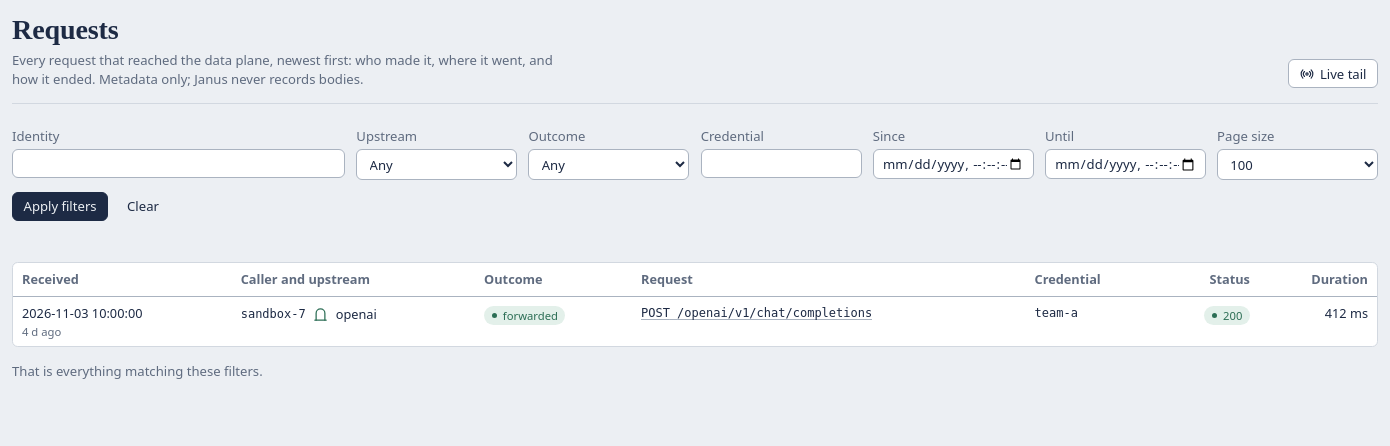
Test case: Requests view › tails live over fetch with the token in the header, and stops when switched off
Expected: the table named "Request log" is shown, [13, 263, 1377, 346]
Select "openai" in the dropdown labelled "Upstream" at [437, 165], box [356, 149, 517, 180]
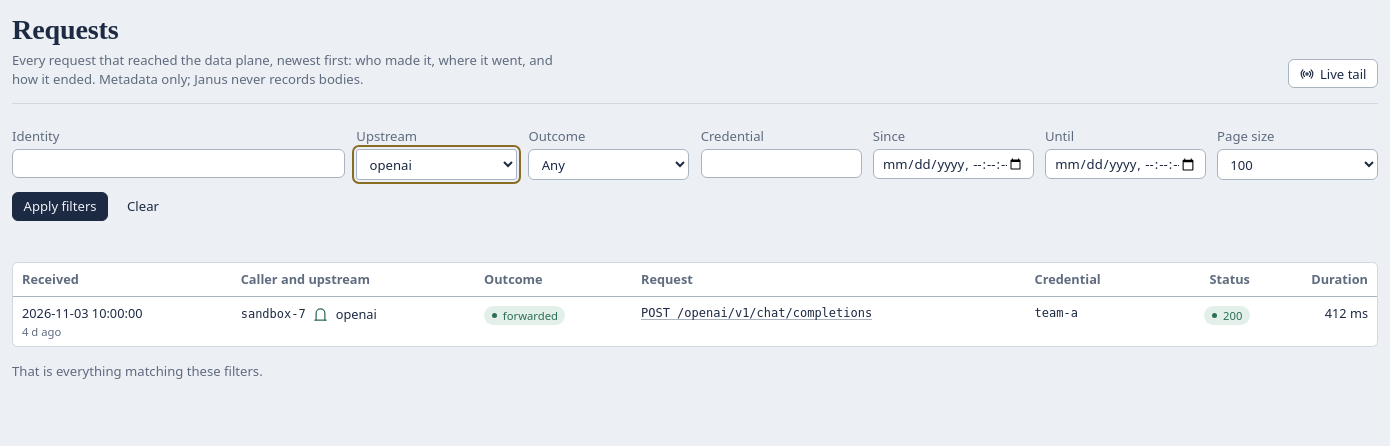
Click the button "Apply filters" at [60, 206], box [12, 192, 108, 221]
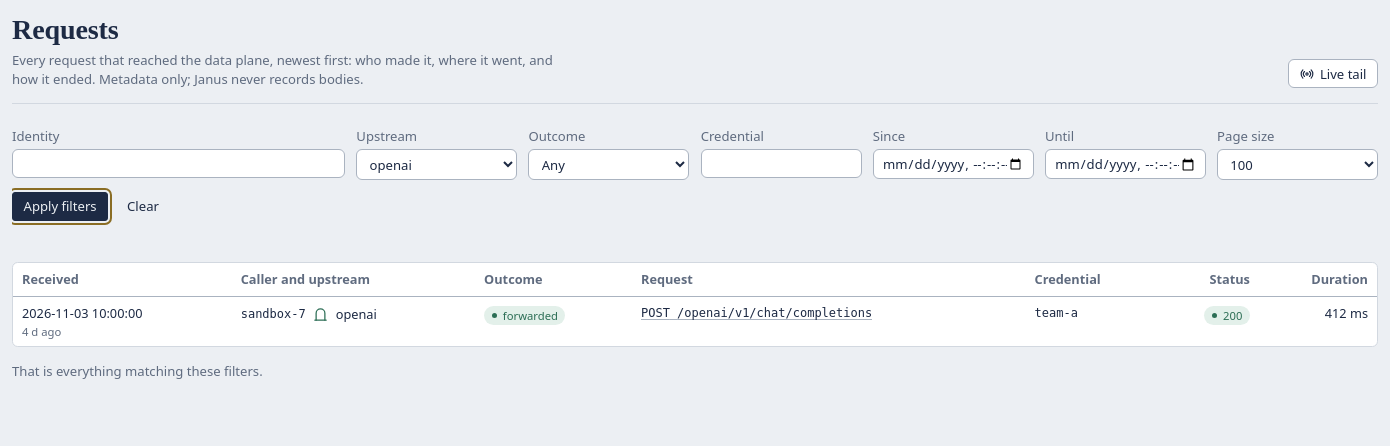
Click the button "Live tail" at [1333, 74], box [1288, 59, 1378, 88]
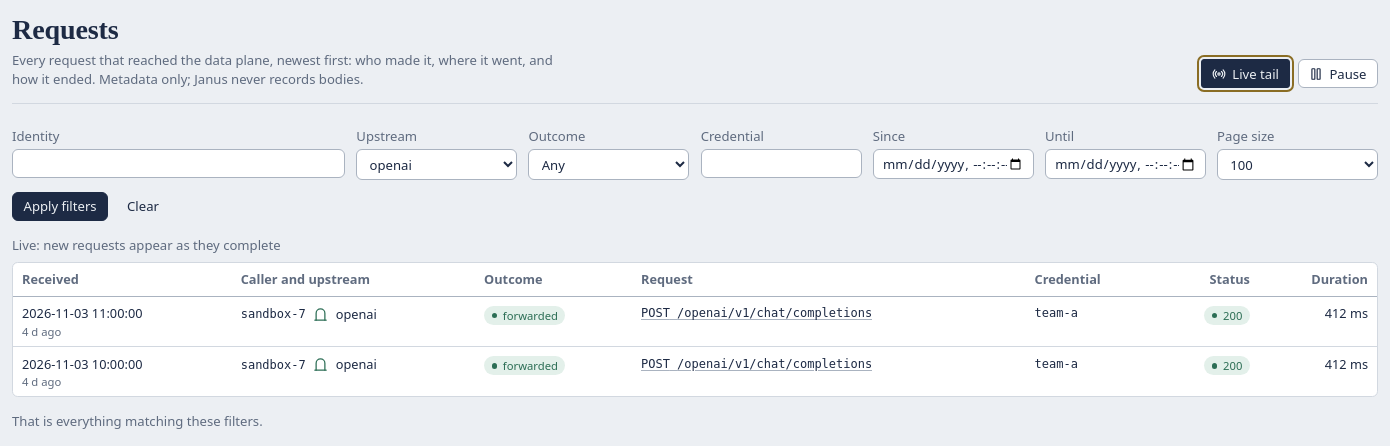
Result: the text "Live: new requests appear as they complete" is shown at [12, 236, 281, 254]
Click the button "Live tail" at [1246, 74], box [1201, 59, 1290, 88]
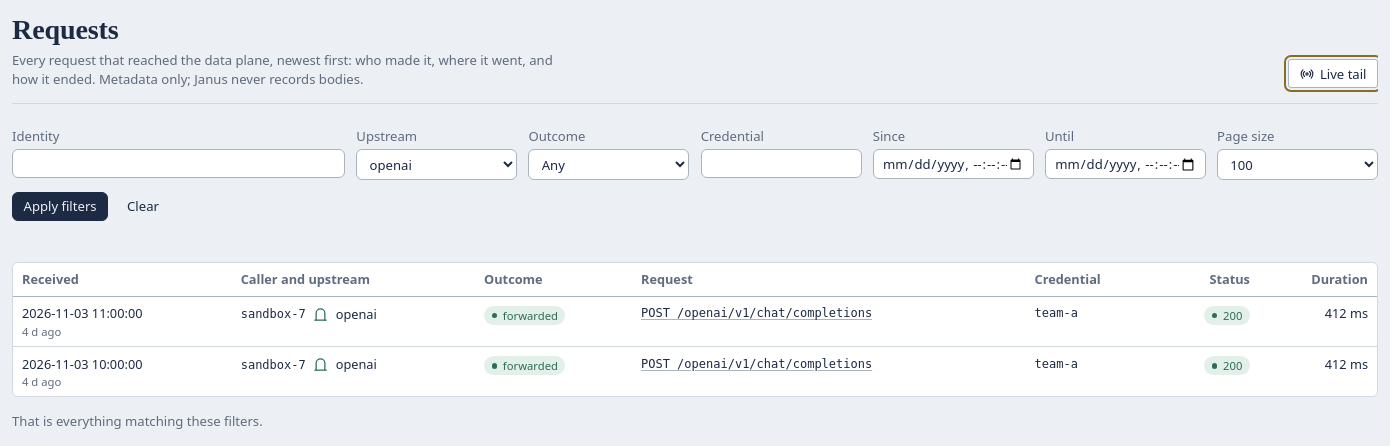
Result: the text "Live: new requests appear" is gone
